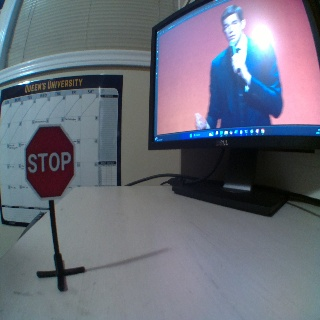sign_stop: (24, 126, 72, 198)
